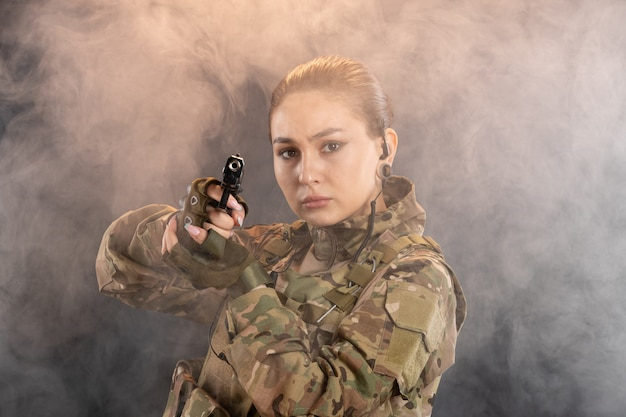gun: (217, 153, 246, 214)
